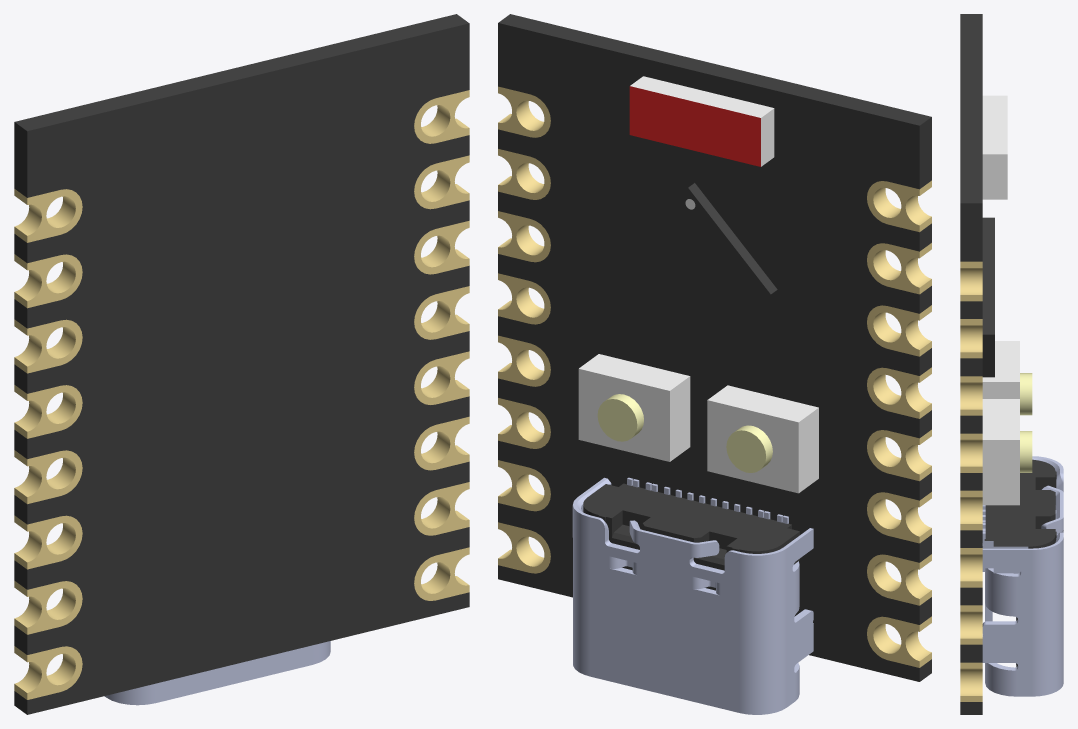
The model's file is esp32-c3.glb.
The picture shows the model from 3 angles, left to right: view 1: azimuth 30°, elevation 25°; view 2: azimuth 150°, elevation 25°; view 3: azimuth 270°, elevation 25°; orthographic projection. The views are drawn at different scales.
Visible parts, largest first — view 1: NAUO1, NAUO2; view 2: NAUO1, NAUO2, NAUO3; view 3: NAUO2, NAUO1, NAUO3.
Boxes of the visible parts, bbox=[...] form: NAUO1: bbox=[14, 14, 469, 714]; NAUO2: bbox=[104, 641, 330, 705]; NAUO1: bbox=[498, 14, 931, 681]; NAUO2: bbox=[572, 477, 813, 714]; NAUO3: bbox=[578, 76, 818, 493]; NAUO2: bbox=[982, 456, 1063, 696]; NAUO1: bbox=[960, 14, 982, 714]; NAUO3: bbox=[982, 95, 1032, 505].
Size of the model in its own units: 0.018 by 0.024 by 0.00416.
